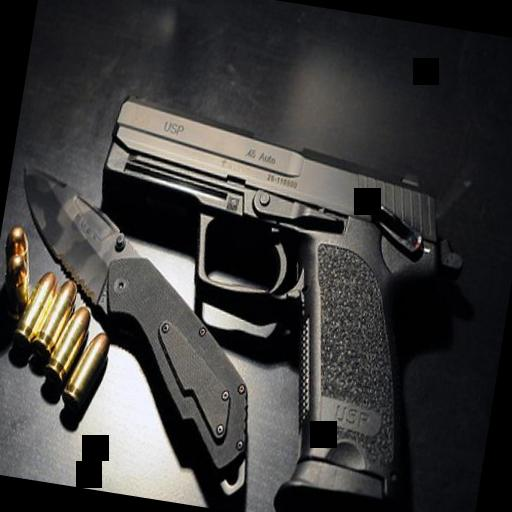Handgun: (60, 87, 478, 512)
